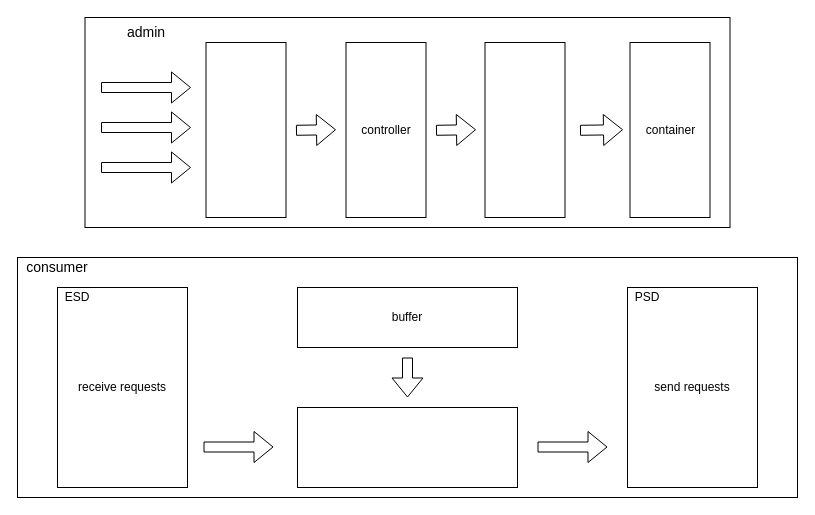
The diagram is 815 pixels wide and 515 high, and some of its shapes have lost their labels. Each missing label, with the centre of its shape:
interceptor: point (245, 130)
request agent: point (407, 447)
service: point (524, 130)
